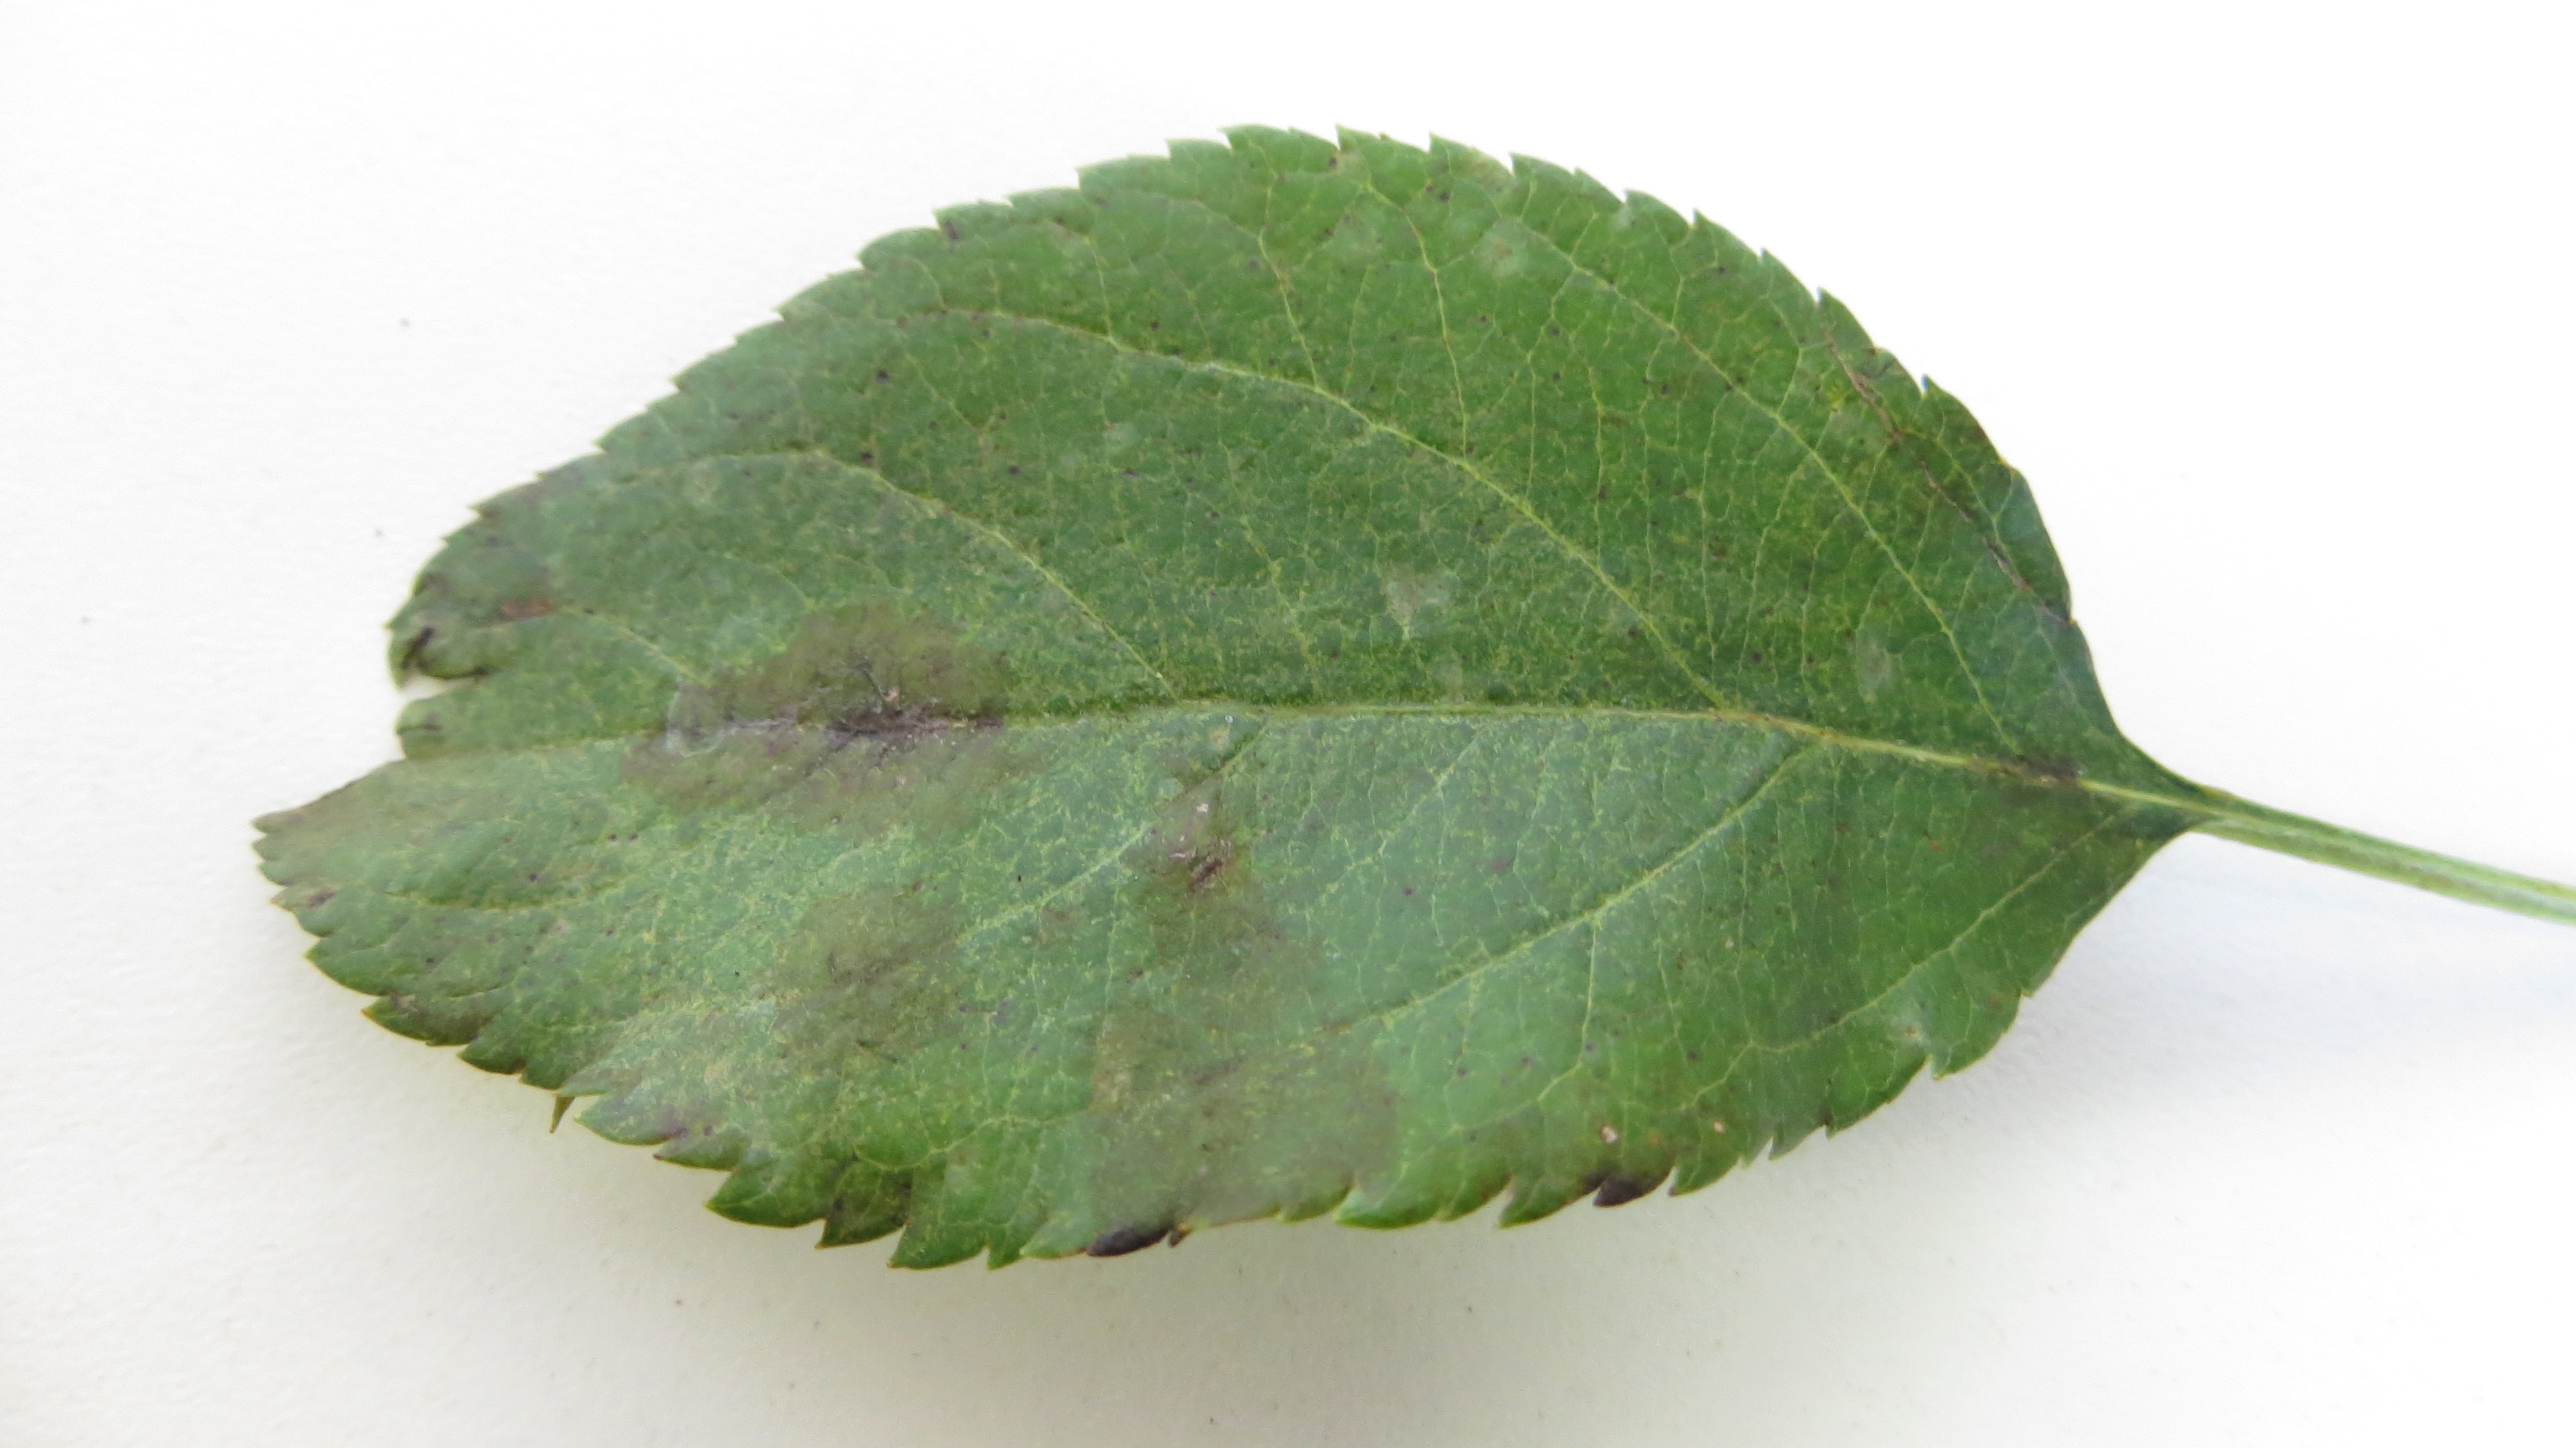sarna: (653, 612, 1024, 846), (1062, 988, 1419, 1221), (764, 876, 989, 1080), (1111, 766, 1323, 979), (1960, 728, 2105, 848), (453, 554, 575, 639), (1564, 1140, 1674, 1218)
